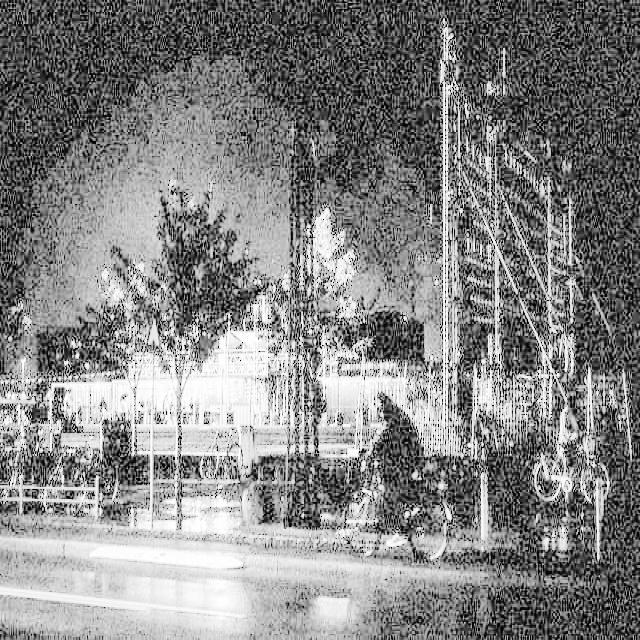Bicycle: (324, 456, 477, 592), (504, 434, 635, 527)
